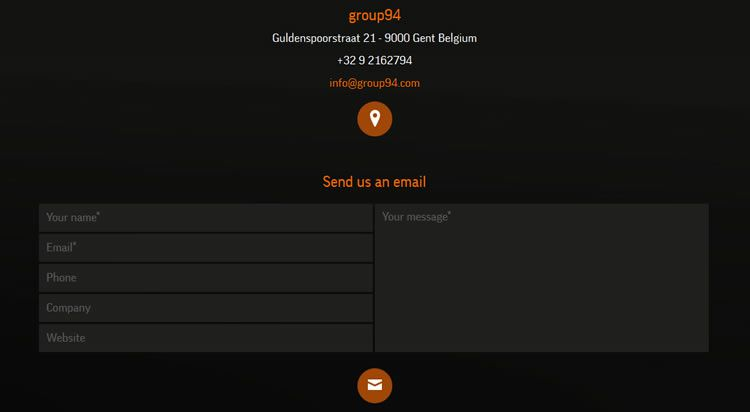field: (374, 202, 709, 353), (38, 202, 374, 232), (37, 232, 373, 262), (36, 262, 372, 292), (36, 292, 372, 322), (36, 322, 372, 352)
